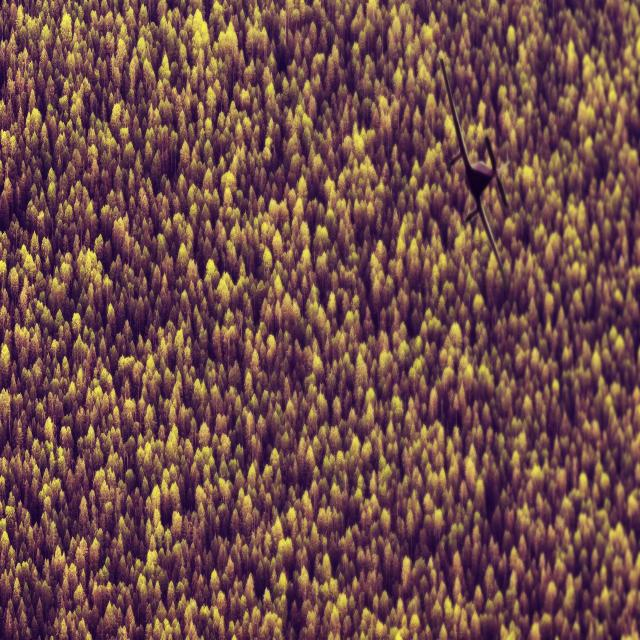airplane: (438, 54, 509, 293)
